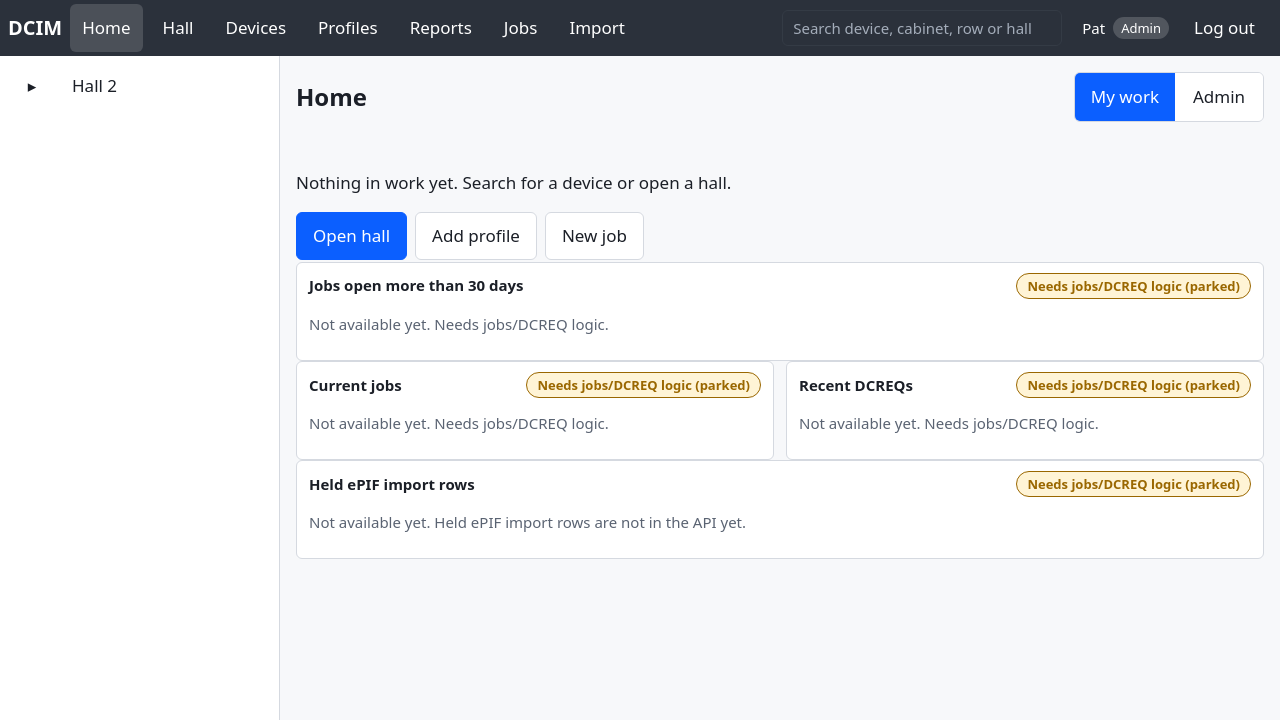
jobs list › is linked from the main nav and lists status, open-item counts, and the overdue flag
Click the link "Jobs".
click(521, 28)  # box [504,16,537,39]
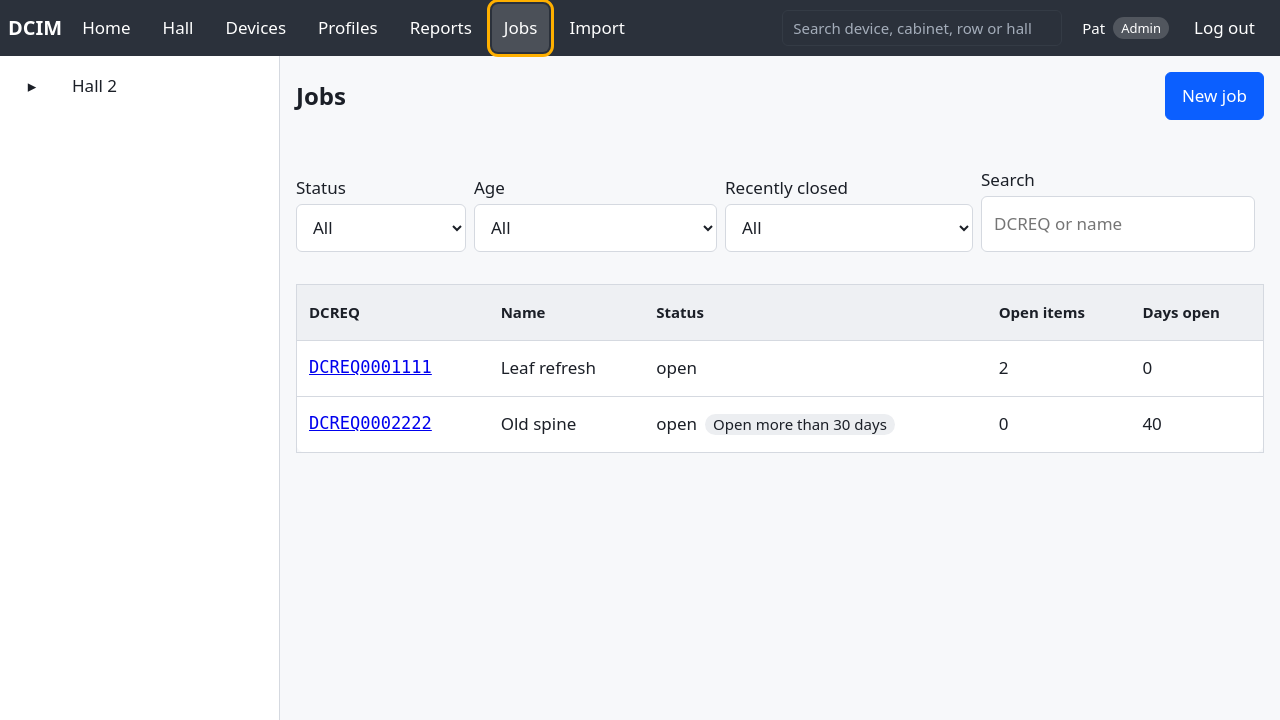
Expected: the heading "Jobs" is shown, [296,79,346,113]
Expected: the row "DCREQ0001111 Leaf refresh open 2 0" is shown, [296,340,1264,396]
Expected: the row "DCREQ0002222 Old spine open Open more than 30 days 0 40" is shown, [296,396,1264,452]
